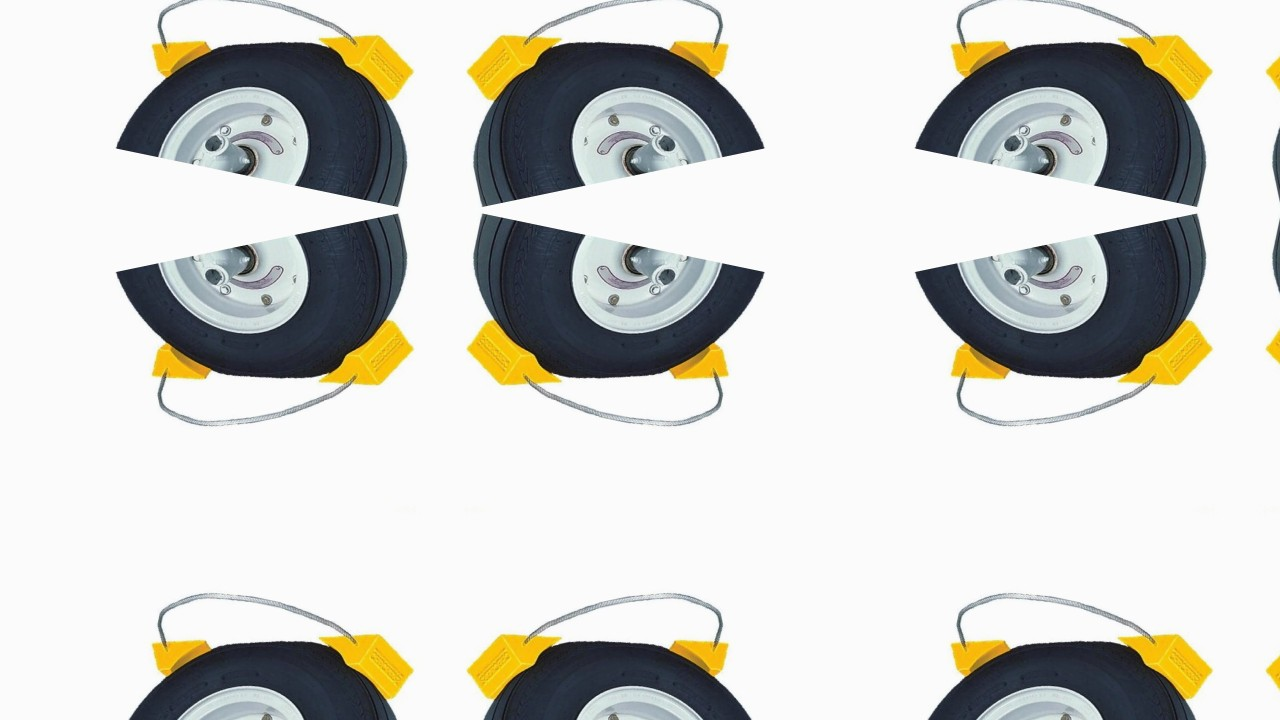chock: (308, 23, 419, 105), (461, 23, 572, 105), (1108, 23, 1219, 105), (308, 315, 419, 397), (461, 315, 572, 397), (1108, 315, 1219, 397), (308, 623, 419, 705), (461, 623, 572, 705), (1108, 623, 1219, 705), (144, 30, 222, 92), (658, 30, 736, 92), (944, 30, 1022, 92), (144, 328, 222, 390), (658, 328, 736, 390), (944, 328, 1022, 390), (144, 630, 222, 692), (658, 630, 736, 692), (944, 630, 1022, 692), (1261, 23, 1280, 105), (1261, 315, 1280, 397), (1261, 623, 1280, 705)
wheel: (115, 7, 429, 206), (451, 7, 765, 206), (915, 7, 1229, 206), (115, 214, 429, 413), (451, 214, 765, 413), (915, 214, 1229, 413), (115, 607, 429, 720), (451, 607, 765, 720), (915, 607, 1229, 720)
